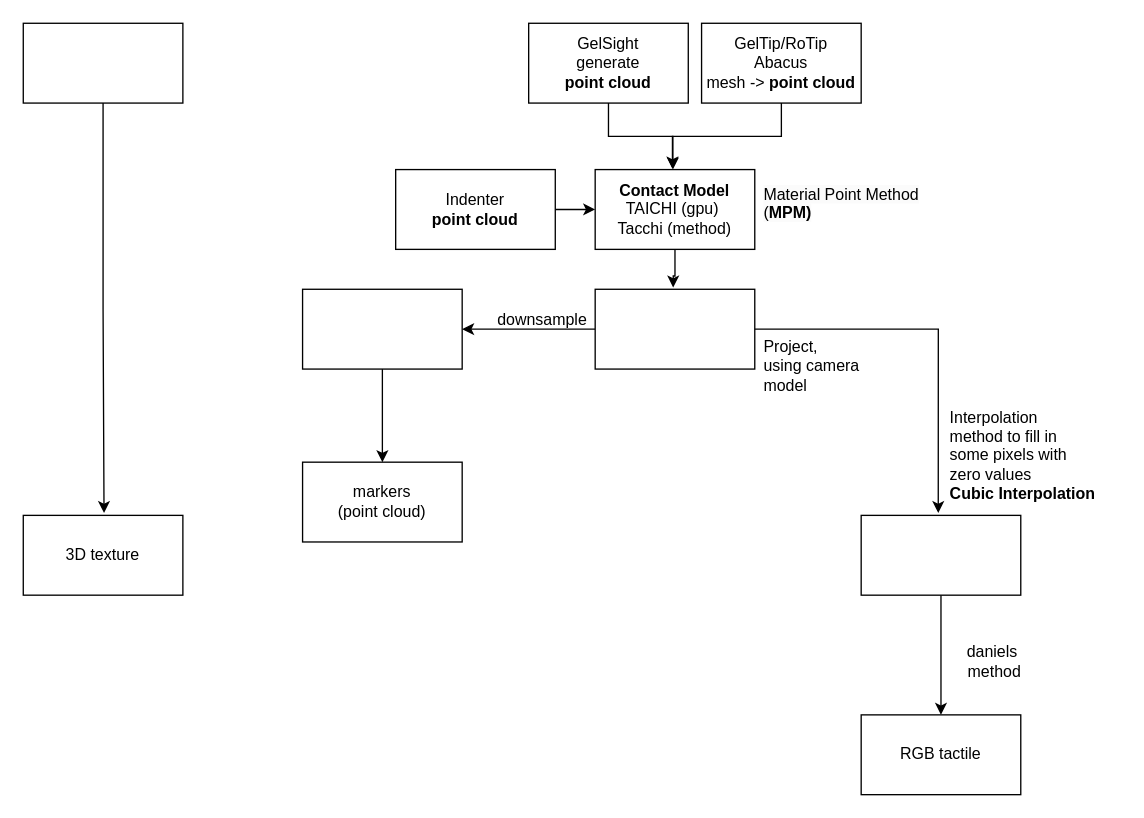
Some shapes in this 1144 by 818 pixel diagram are drawn without their labels. The shapes that lost their labels are listed below. From the top down, each one's centre as x and y in pixels, then its label:
(102,62): 2D texture
(381,328): particle
(674,328): mebrane surface (point cloud) position , velocity
(940,554): Depth map
